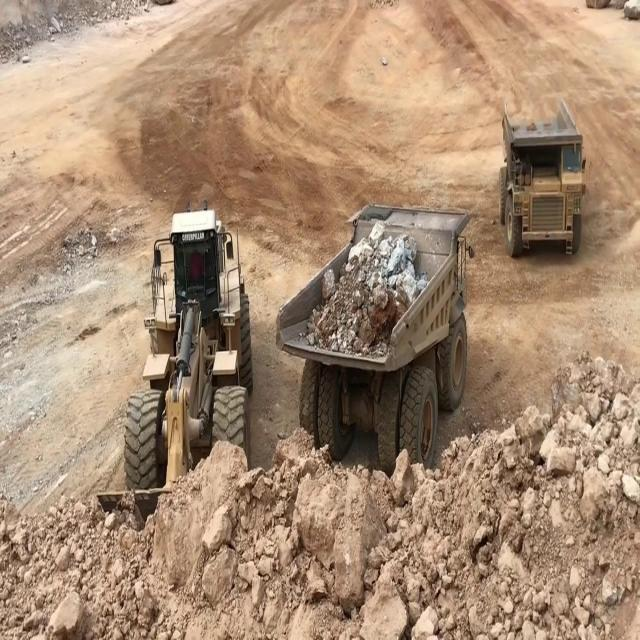Dump Truck: (273, 203, 475, 469), (492, 98, 594, 258)
Loader: (97, 194, 253, 522)
